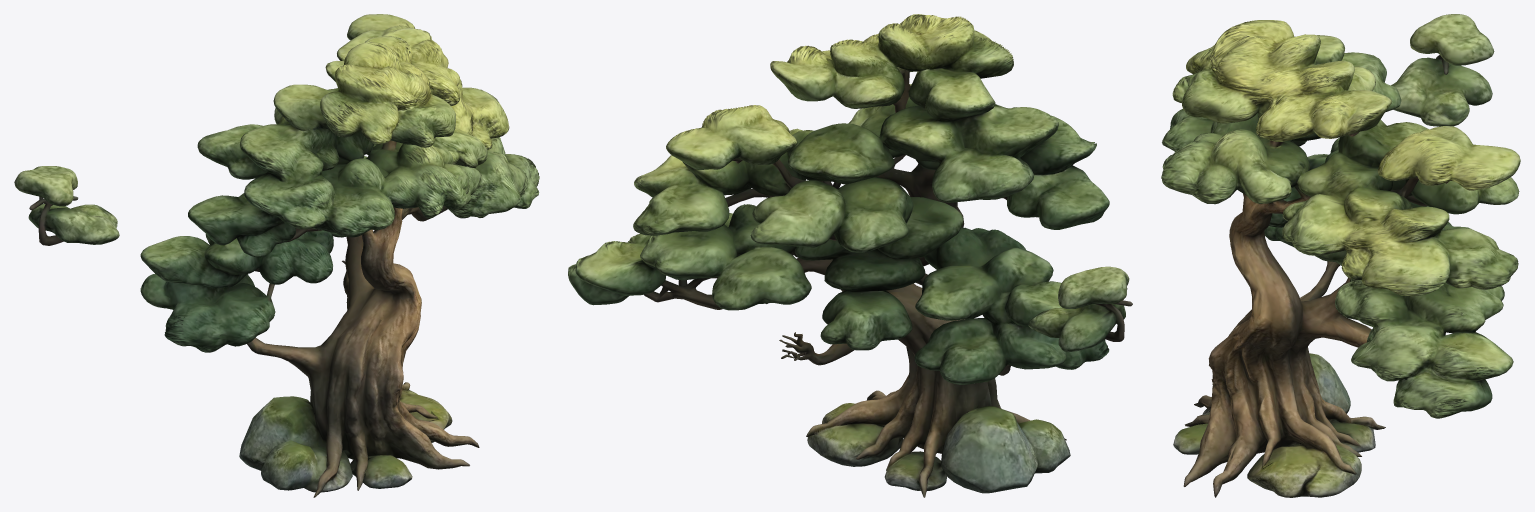
Rendered from moon_bonsai.glb.
The picture shows the model from 3 angles, left to right: view 1: azimuth 30°, elevation 25°; view 2: azimuth 150°, elevation 25°; view 3: azimuth 270°, elevation 25°; orthographic projection. The views are drawn at different scales.
Parts seen in each view (by area): view 1: tripo_node_14176b8c-a199-43aa-8af0-efd7c07ad436; view 2: tripo_node_14176b8c-a199-43aa-8af0-efd7c07ad436; view 3: tripo_node_14176b8c-a199-43aa-8af0-efd7c07ad436.
Boxes of the visible parts, left/top/right/bottom form: tripo_node_14176b8c-a199-43aa-8af0-efd7c07ad436: left=14, top=14, right=539, bottom=497; tripo_node_14176b8c-a199-43aa-8af0-efd7c07ad436: left=568, top=14, right=1132, bottom=497; tripo_node_14176b8c-a199-43aa-8af0-efd7c07ad436: left=1161, top=14, right=1520, bottom=497.
Size of the model in its own units: 0.9796 by 0.713 by 0.5435.
1 material, 1 textured.
